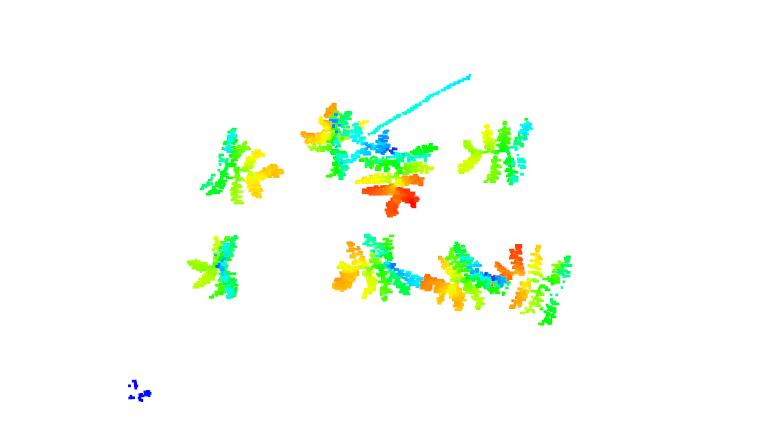chickpea: (489, 241, 573, 324), (200, 128, 288, 203), (363, 134, 437, 218), (417, 241, 505, 310), (333, 232, 422, 300), (455, 116, 536, 186), (297, 104, 372, 179), (185, 234, 246, 304)
